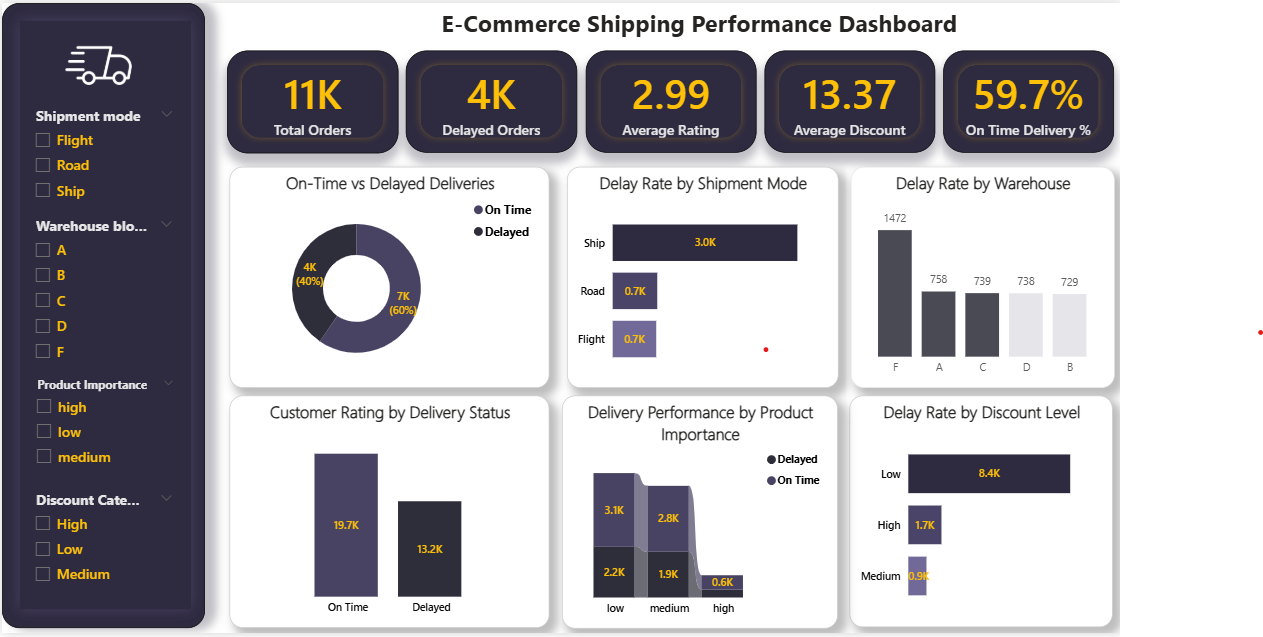

Layout of this report page (visuals, bound fields, positions):
{"tool":"powerbi","page":{"name":"Page 2","canvas":[1280,720],"ordinal":1},"visuals":[{"type":"cardVisual","fields":{"Data":["ecommerce_shipping.Delayed_Orders"]},"box":[461.9,54.4,196.2,117],"z":0},{"type":"cardVisual","fields":{"Data":["ecommerce_shipping.Average_Customer_Rating"]},"box":[667.5,54.4,195,117],"z":1000},{"type":"cardVisual","fields":{"Data":["ecommerce_shipping.Total_Orders"]},"box":[257.5,53.8,196.2,117.5],"z":2000},{"type":"cardVisual","fields":{"Data":["ecommerce_shipping.On_Time_Delivery %"]},"box":[1075.6,54.4,195.6,117],"z":3000},{"type":"cardVisual","fields":{"Data":["ecommerce_shipping.Average_Discount"]},"box":[871.1,54.4,195.6,117],"z":4000},{"type":"shape","box":[0,0,232,714],"z":5000},{"type":"slicer","fields":{"Values":["ecommerce_shipping.Shipment_mode"]},"box":[25.7,112.9,181.4,121.4],"z":6000},{"type":"slicer","fields":{"Values":["ecommerce_shipping.Warehouse_block"]},"box":[25.6,238.9,181.1,183.3],"z":7000},{"type":"slicer","fields":{"Values":["ecommerce_shipping.Product_importance"]},"box":[27,422,181,120],"z":8000},{"type":"slicer","fields":{"Values":["ecommerce_shipping.Discount_category"]},"box":[26,551,181,127],"z":9000},{"type":"donutChart","title":"On-Time vs Delayed Deliveries","fields":{"Category":["ecommerce_shipping.Delivery_status"],"Y":["ecommerce_shipping.Total_Orders"]},"box":[260,187.1,365.7,252.9],"z":10000},{"type":"columnChart","title":"Customer Rating by Delivery Status","fields":{"Category":["ecommerce_shipping.Delivery_status"],"Y":["Sum(ecommerce_shipping.Customer_rating)"]},"box":[260,448.6,365.7,265.7],"z":11000},{"type":"clusteredBarChart","title":"Delay Rate by Shipment Mode","fields":{"Category":["ecommerce_shipping.Shipment_mode"],"Y":["Sum(ecommerce_shipping.Delay_flag)"]},"box":[645.7,187.1,310,252.9],"z":12000},{"type":"clusteredColumnChart","title":"Delay Rate by Warehouse","fields":{"Category":["ecommerce_shipping.Warehouse_block"],"Y":["Sum(ecommerce_shipping.Delay_flag)"]},"box":[970,187.1,301.4,252.9],"z":13000},{"type":"clusteredBarChart","title":"Delay Rate by Discount Level","fields":{"Y":["CountNonNull(ecommerce_shipping.Delay_flag)"],"Category":["ecommerce_shipping.Discount_category"]},"box":[969,448,301,265],"z":14000},{"type":"columnChart","title":"Delivery Performance by Product Importance","fields":{"Category":["ecommerce_shipping.Product_importance"],"Y":["ecommerce_shipping.Total_Orders"],"Series":["ecommerce_shipping.Delivery_status"]},"box":[640,448.3,315,266.7],"z":15000},{"type":"textbox","box":[385,0,822.5,55],"z":16000},{"type":"image","box":[37.5,27.5,146.2,76.2],"z":17000}]}

Visuals, with their boxes in screenshot pixels (x1, y1, x2, y2):
cardVisual - ecommerce_shipping.Delayed_Orders: bbox=(404, 48, 575, 150)
cardVisual - ecommerce_shipping.Average_Customer_Rating: bbox=(583, 48, 754, 150)
cardVisual - ecommerce_shipping.Total_Orders: bbox=(225, 47, 397, 150)
cardVisual - ecommerce_shipping.On_Time_Delivery %: bbox=(940, 48, 1111, 150)
cardVisual - ecommerce_shipping.Average_Discount: bbox=(761, 48, 932, 150)
shape: bbox=(0, 0, 203, 624)
slicer - ecommerce_shipping.Shipment_mode: bbox=(22, 99, 181, 205)
slicer - ecommerce_shipping.Warehouse_block: bbox=(22, 209, 181, 369)
slicer - ecommerce_shipping.Product_importance: bbox=(24, 369, 182, 474)
slicer - ecommerce_shipping.Discount_category: bbox=(23, 482, 181, 593)
"On-Time vs Delayed Deliveries" donutChart: bbox=(227, 164, 547, 385)
"Customer Rating by Delivery Status" columnChart: bbox=(227, 392, 547, 624)
"Delay Rate by Shipment Mode" clusteredBarChart: bbox=(564, 164, 835, 385)
"Delay Rate by Warehouse" clusteredColumnChart: bbox=(848, 164, 1111, 385)
"Delay Rate by Discount Level" clusteredBarChart: bbox=(847, 392, 1110, 623)
"Delivery Performance by Product Importance" columnChart: bbox=(559, 392, 835, 625)
textbox: bbox=(336, 0, 1055, 48)
image: bbox=(33, 24, 161, 91)
